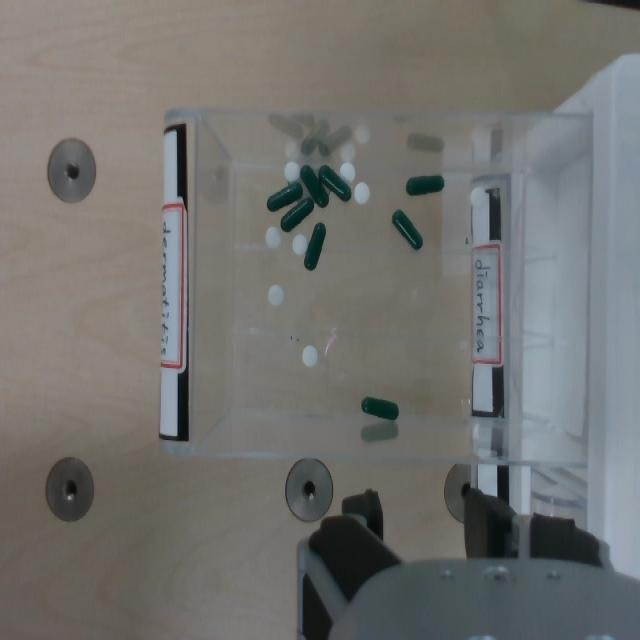ganakan_tab: (353, 181, 371, 207), (301, 344, 319, 369), (470, 186, 488, 210), (283, 159, 300, 182), (265, 227, 282, 248), (292, 233, 308, 255), (339, 163, 356, 183), (268, 285, 283, 305)
monodoxy_cap: (391, 207, 423, 249), (392, 209, 422, 249), (318, 165, 351, 201), (301, 166, 329, 208), (300, 165, 328, 207), (280, 197, 313, 231), (320, 165, 350, 202), (360, 393, 399, 421), (281, 198, 314, 231), (267, 181, 302, 211), (305, 223, 326, 271), (304, 223, 325, 269), (405, 172, 445, 196), (267, 184, 302, 211), (361, 396, 398, 420), (406, 175, 443, 195)
